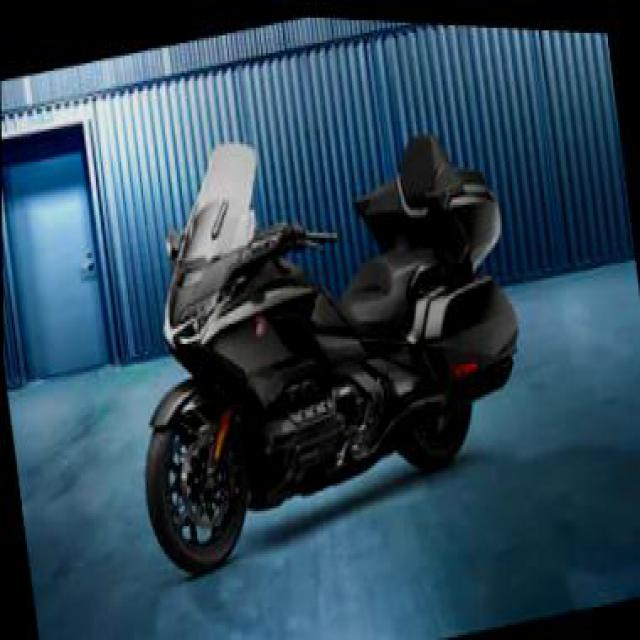Gold Wing: (103, 62, 540, 598)
